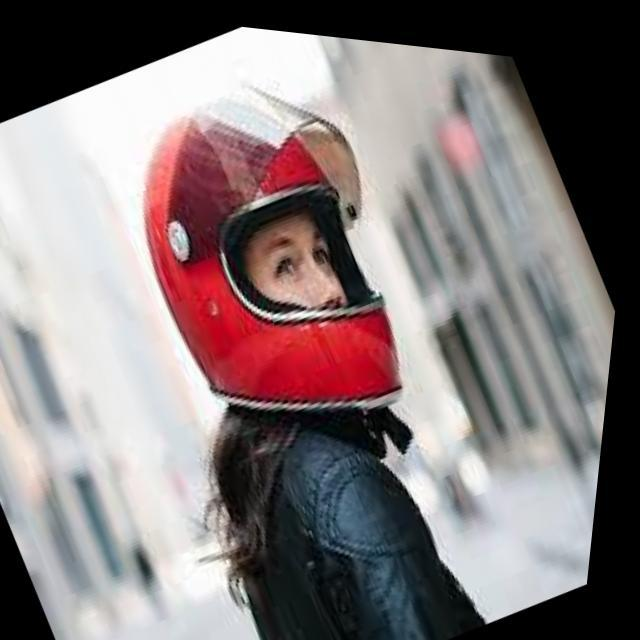Helmet: (134, 73, 418, 431)
